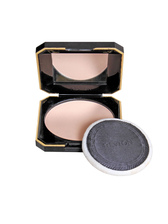other: (27, 36, 155, 174)
